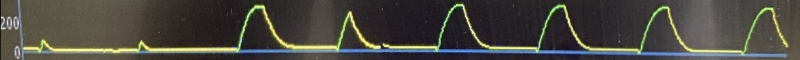normal_volume: (240, 1, 789, 60)
